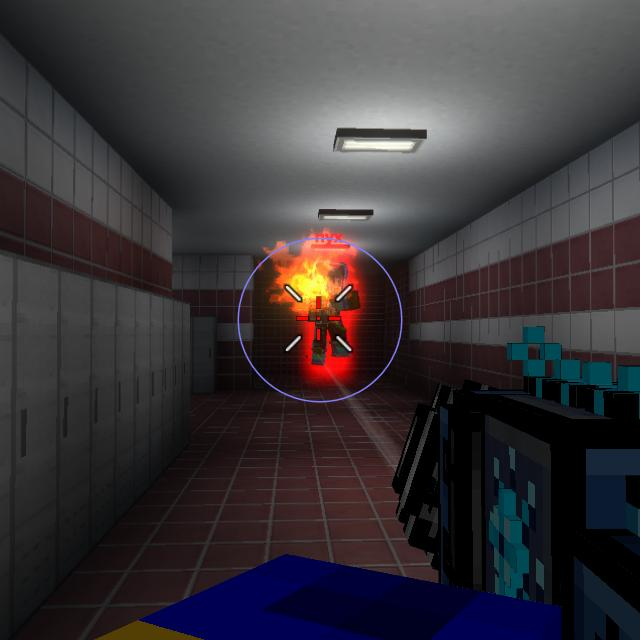Enemy: (307, 261, 361, 365)
